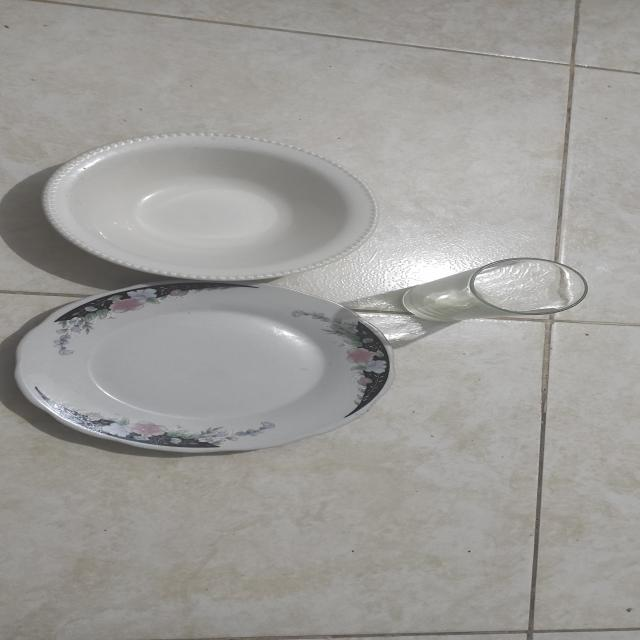non-organic waste: (0, 278, 454, 463), (1, 126, 431, 285)
